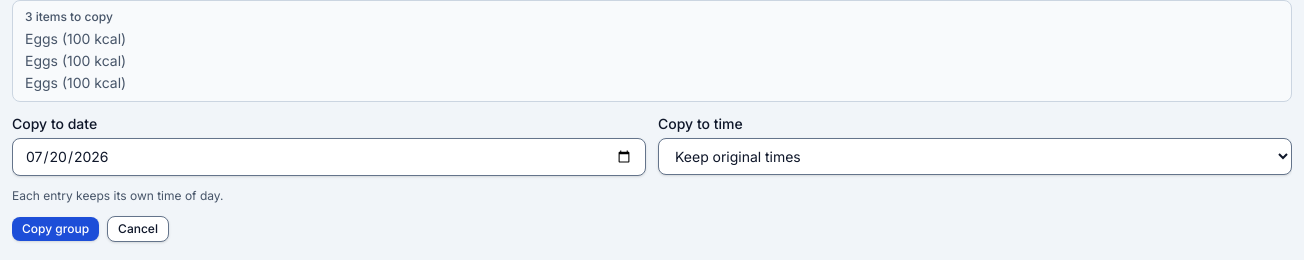
Test: CopyGroupDialog -- Copy to time override › discloses the collapse when a multi-instant source picks an explicit time, and the 'keep original' note otherwise
Expected: the text "Each entry keeps its own time of day." is shown, [12,188,224,203]
Select "06:30 PM" in the dropdown labelled "Copy to time" at [975, 156], box [658,138,1292,175]
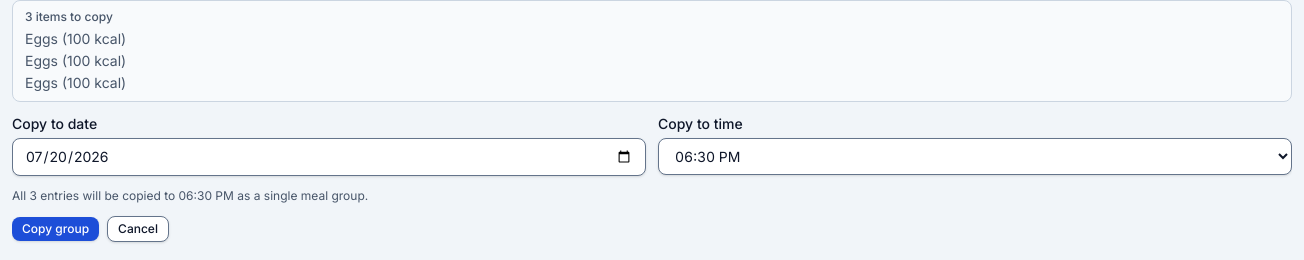
Expected: the text "All 3 entries will be copied to 06:30 PM as a single meal group." is shown, [12,188,368,203]
Expected: the text "Each entry keeps its own time of day." is gone
